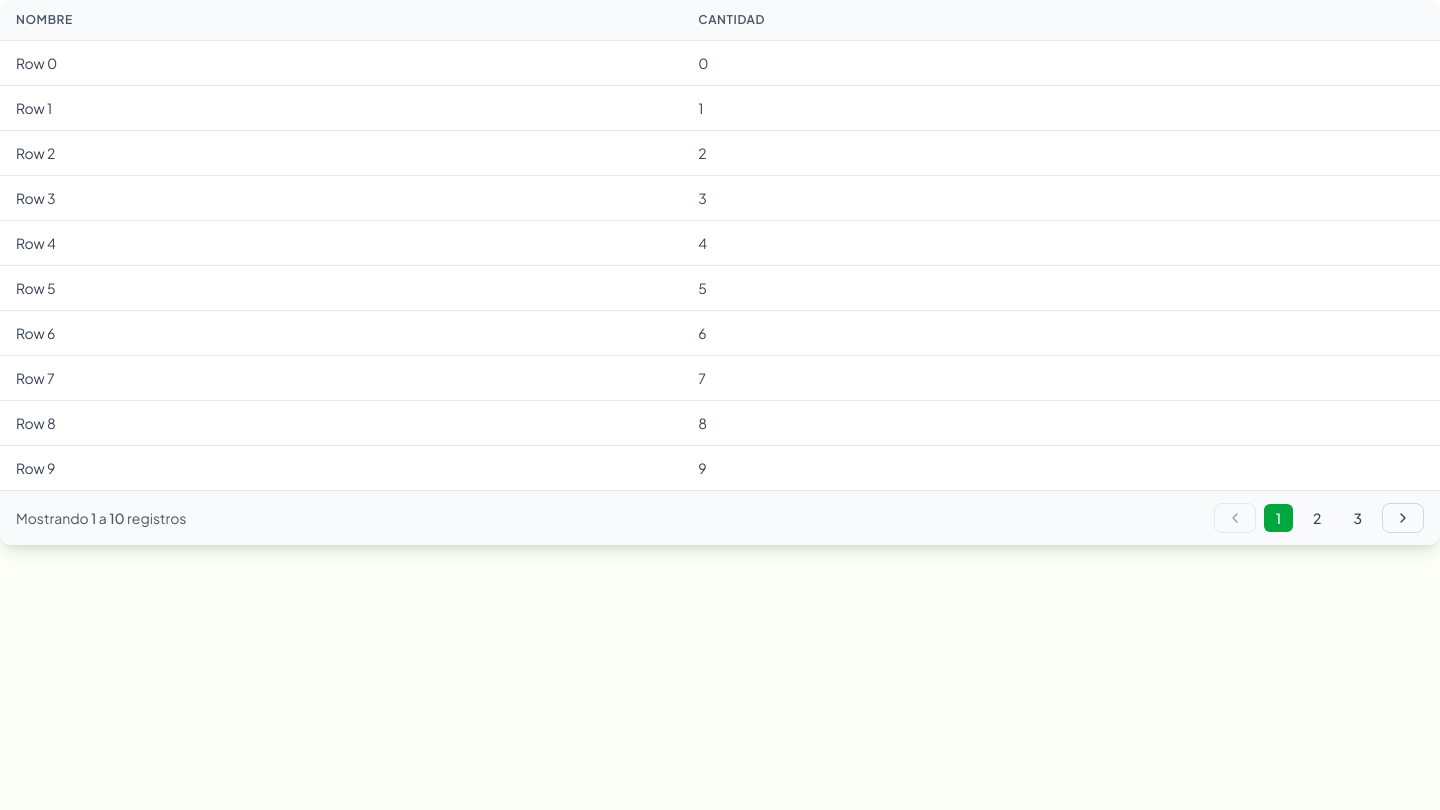
Test case: RiskDataTable › internal pagination › moves to the next page
The width and height of the screenshot is (1440, 810).
Click the button "2".
click(1317, 518)  # box x1=1301 y1=504 x2=1334 y2=532
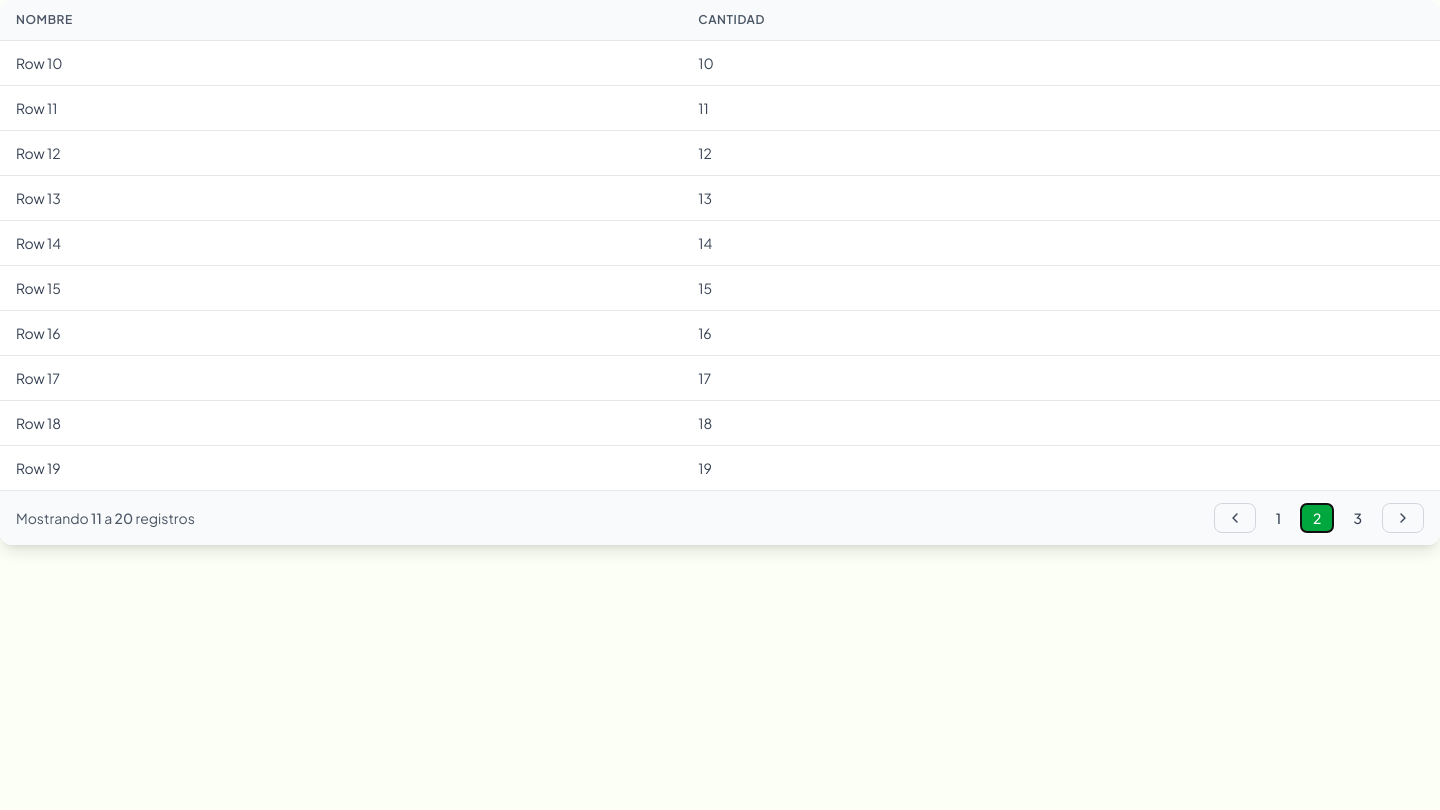
expect the cell "Row 10" is shown: met, box x1=0 y1=40 x2=682 y2=86
